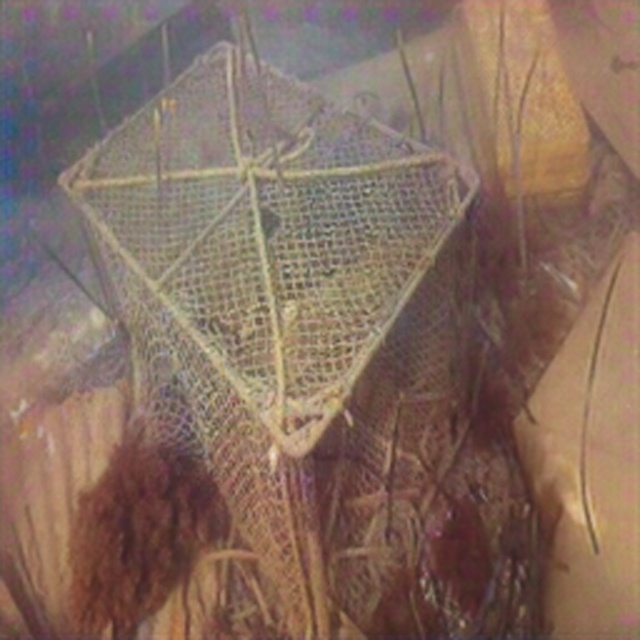mine: (57, 38, 481, 639)
